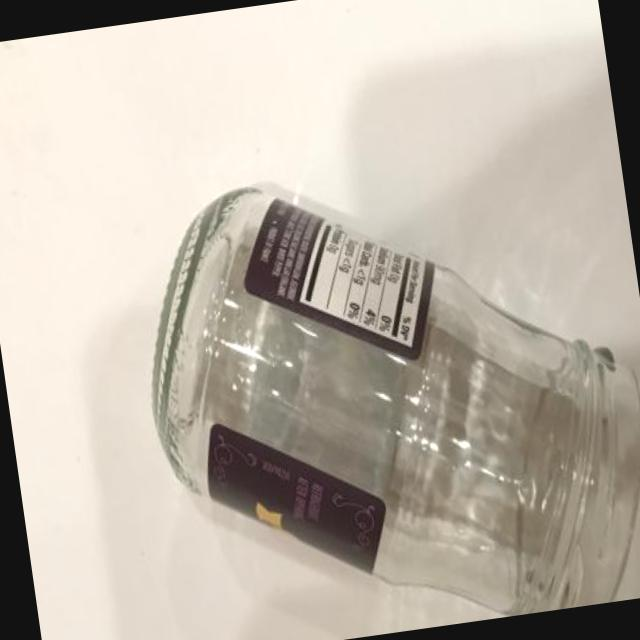chai_thuy_tinh: (152, 183, 640, 616)
